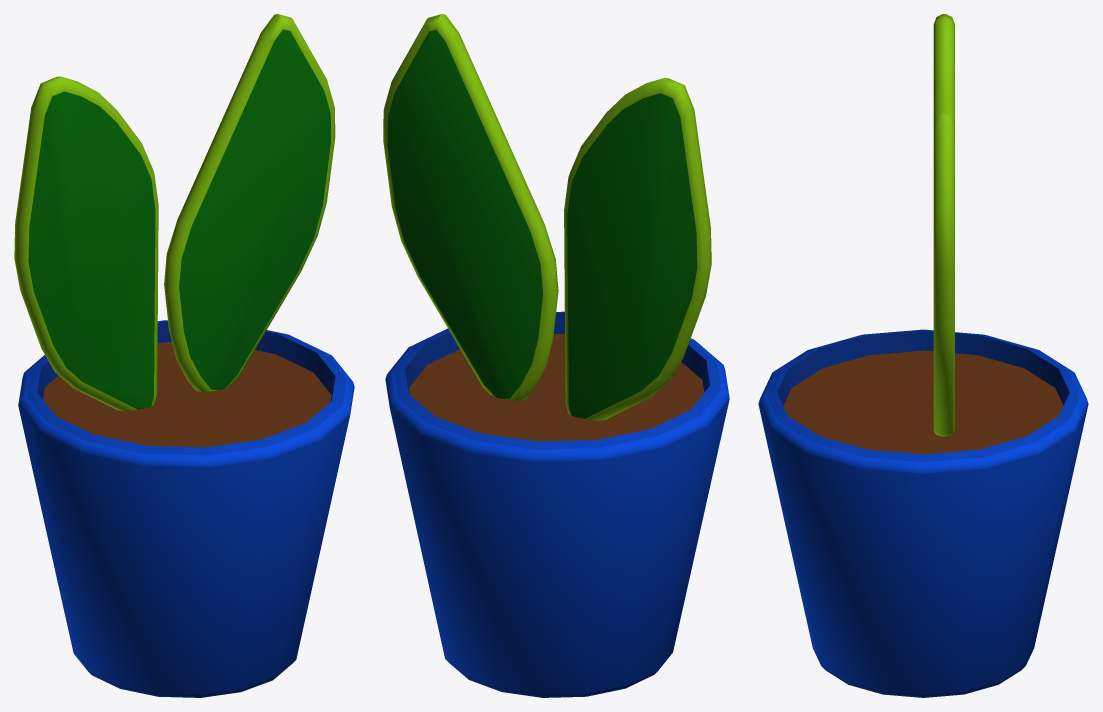
Rendered from Plant.fbx.
3 renders of one model, left to right at view 1: azimuth 30°, elevation 25°; view 2: azimuth 150°, elevation 25°; view 3: azimuth 270°, elevation 25°, orthographic. The views are drawn at different scales.
Visible parts, largest first — view 1: Plant, Plant.002, Plant.001; view 2: Plant, Plant.002, Plant.001; view 3: Plant, Plant.002, Plant.001.
Boxes of the visible parts, x1,y1,x2,y2 form: Plant: (18,320,354,697); Plant.002: (164,14,335,392); Plant.001: (14,76,158,411); Plant: (385,311,729,697); Plant.002: (383,14,558,401); Plant.001: (564,78,711,420); Plant: (758,329,1088,697); Plant.002: (933,113,954,436); Plant.001: (933,14,954,122).
Size of the model in its own units: 144 by 263 by 133.
